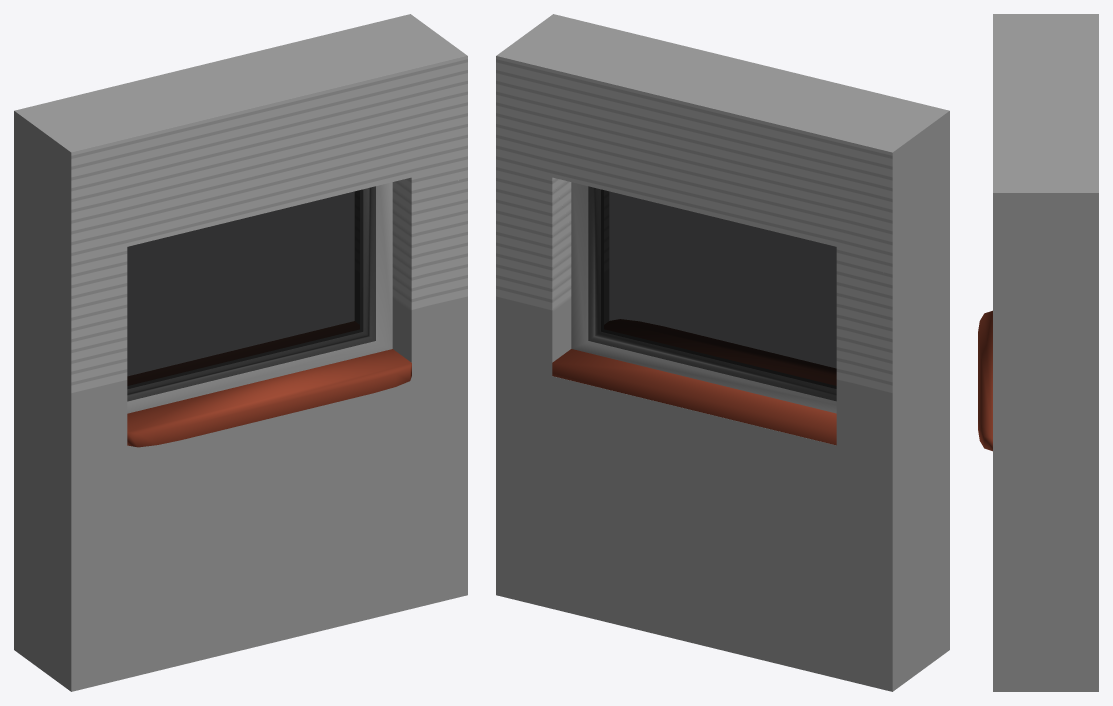
Rendered from Wand_Fenster.fbx.
3 views of the same model, side by side, from view 1: azimuth 30°, elevation 25°; view 2: azimuth 150°, elevation 25°; view 3: azimuth 270°, elevation 25° (orthographic). The views are drawn at different scales.
Parts seen in each view (by area): view 1: WandFenster, Fenster; view 2: WandFenster, Fenster; view 3: WandFenster, Fenster.
Boxes of the visible parts, x1=… form: WandFenster: x1=14, y1=14, x2=467, y2=691; Fenster: x1=127, y1=182, x2=411, y2=447; WandFenster: x1=496, y1=14, x2=949, y2=691; Fenster: x1=552, y1=182, x2=836, y2=445; WandFenster: x1=993, y1=14, x2=1098, y2=691; Fenster: x1=978, y1=310, x2=992, y2=451.
Size of the model in its own units: 200 by 260 by 57.01.
